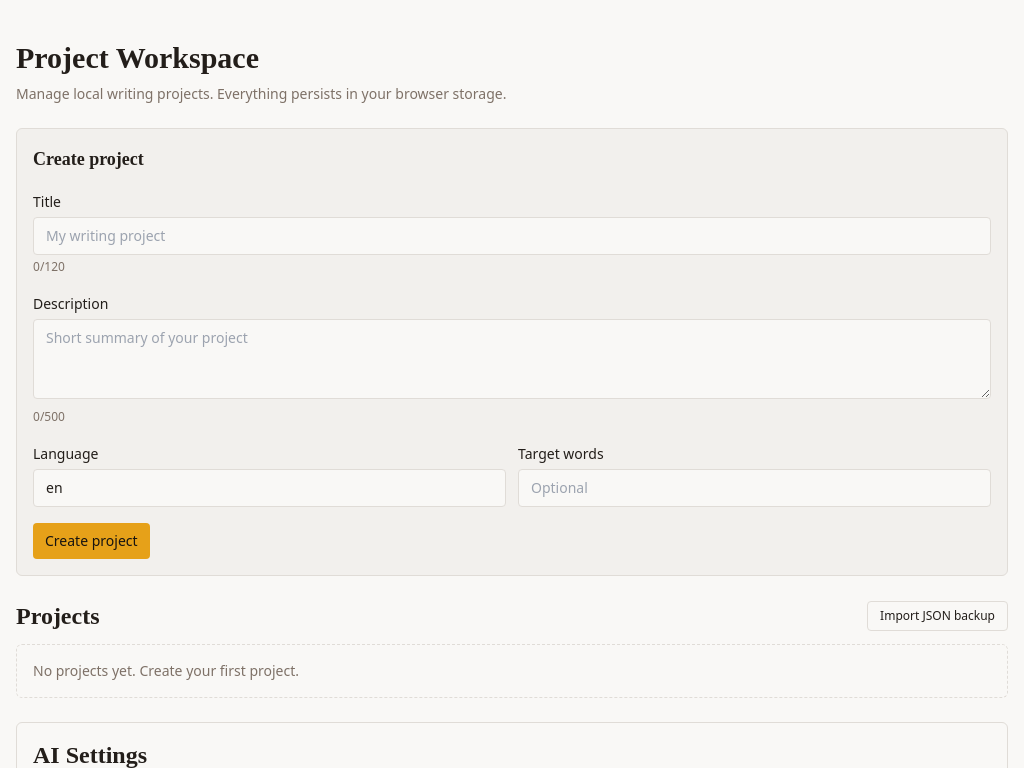
WorkspacePage › creates a project through the UI flow
Check: the text "No projects yet. Create your first project." is shown, box x1=16 y1=644 x2=1008 y2=698
In the field labelled "Title": (512, 236) x1=33 y1=217 x2=991 y2=255, type "Project One"
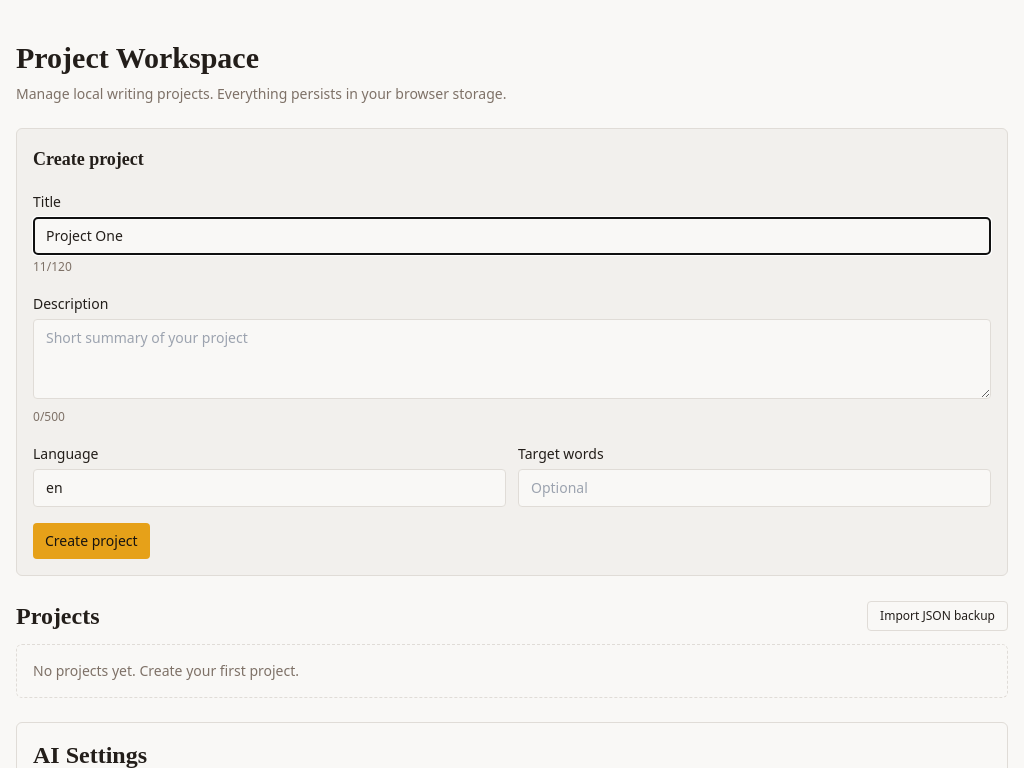
In the text box labelled "Description": (512, 359) x1=33 y1=319 x2=991 y2=399, type "My first project"
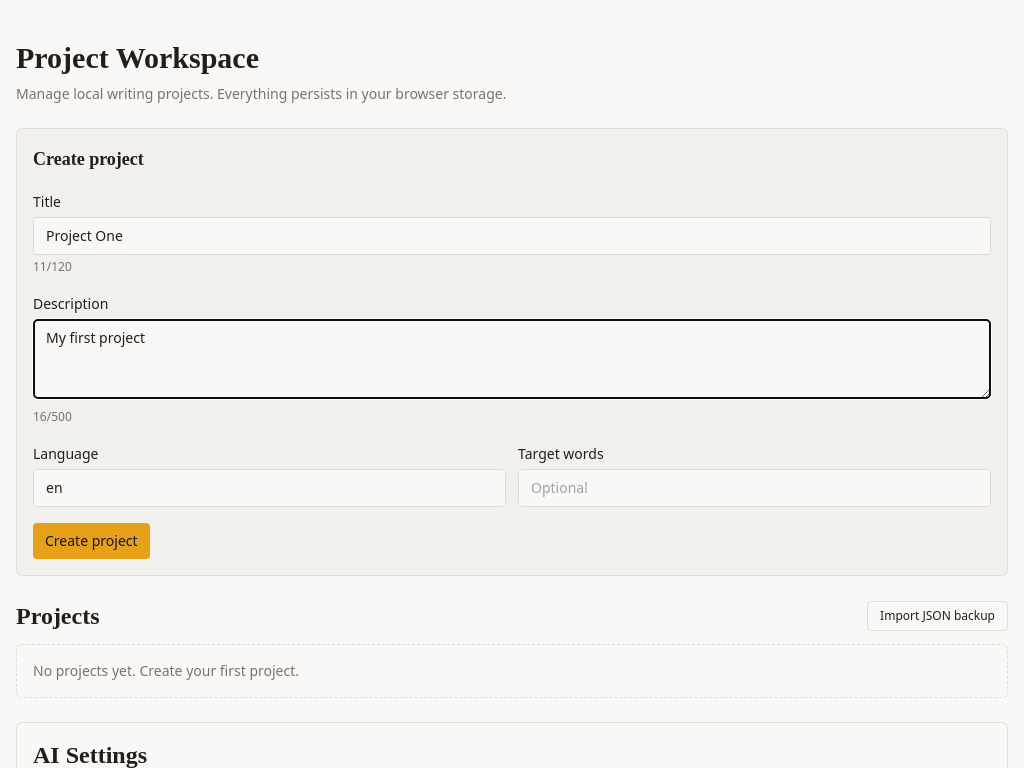
Click the button "Create project": (91, 541) x1=33 y1=523 x2=150 y2=559
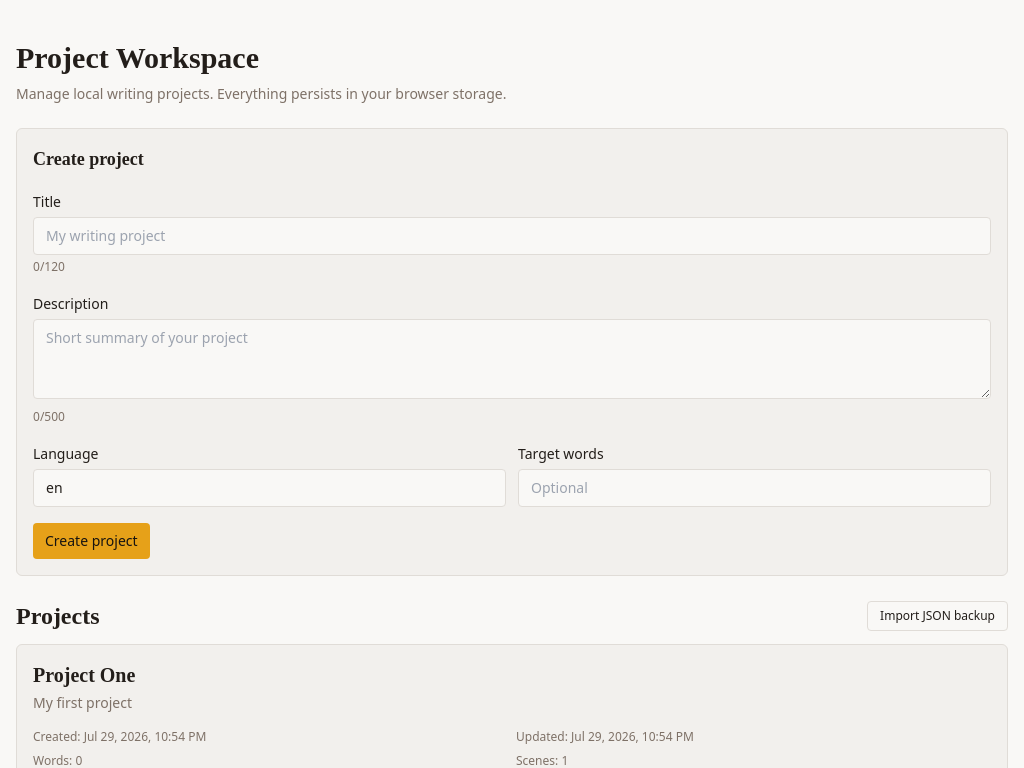
Check: the heading "Project One" is shown, box x1=33 y1=664 x2=135 y2=686
Check: the text with test id "workspace-empty" is gone
